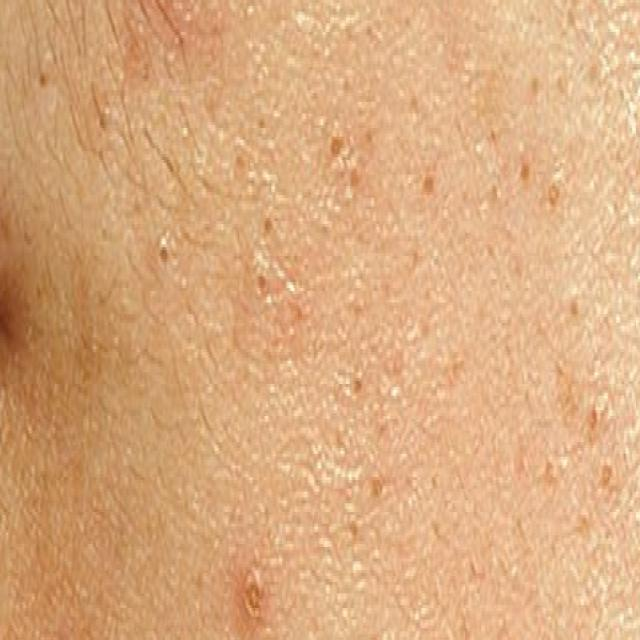blackhead: (600, 456, 614, 491), (351, 370, 365, 400), (499, 156, 514, 184), (329, 130, 342, 162), (234, 148, 247, 180), (548, 177, 560, 211), (518, 156, 530, 187), (564, 1, 576, 32), (262, 212, 274, 242), (97, 106, 109, 135), (346, 513, 358, 542), (590, 403, 601, 434), (346, 166, 359, 192), (372, 473, 384, 501), (408, 94, 420, 122), (422, 170, 433, 200), (158, 238, 170, 265), (362, 121, 373, 150), (255, 109, 267, 135), (410, 244, 420, 274), (256, 268, 266, 297), (555, 74, 568, 96), (340, 74, 353, 96), (363, 16, 373, 44), (587, 61, 597, 88), (569, 295, 579, 322), (489, 176, 498, 205), (530, 73, 540, 99), (489, 119, 498, 147), (545, 456, 553, 485), (334, 431, 343, 455)
